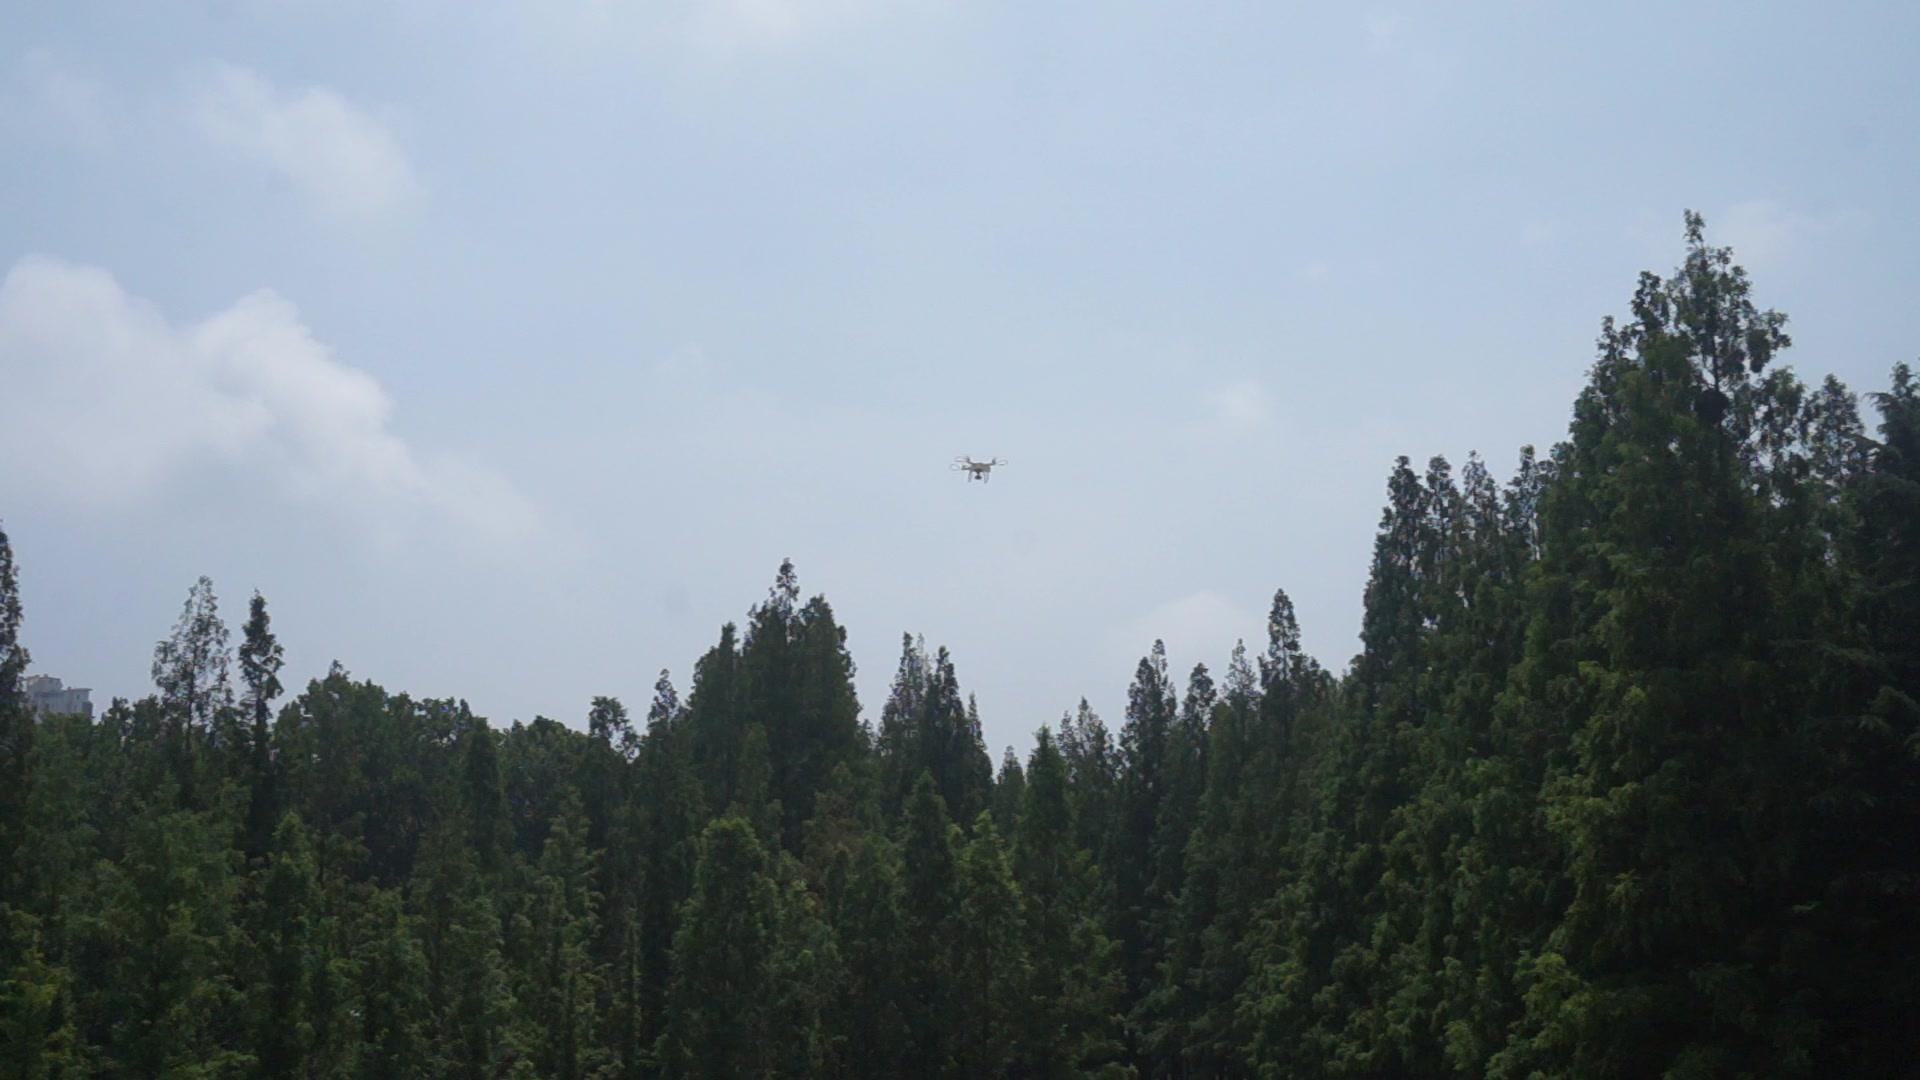UAV: (949, 458, 1009, 484)
